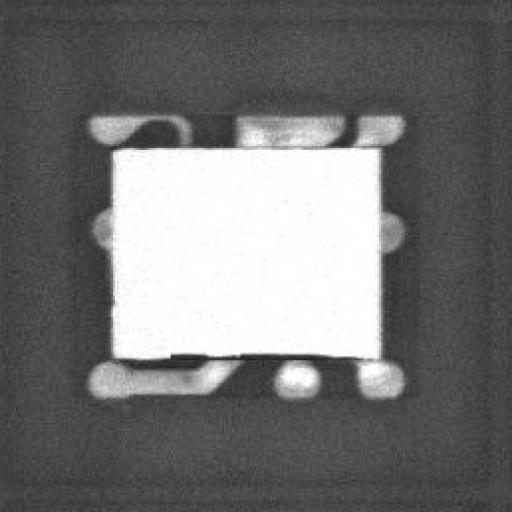DIE_BROKEN: (163, 347, 341, 358)
